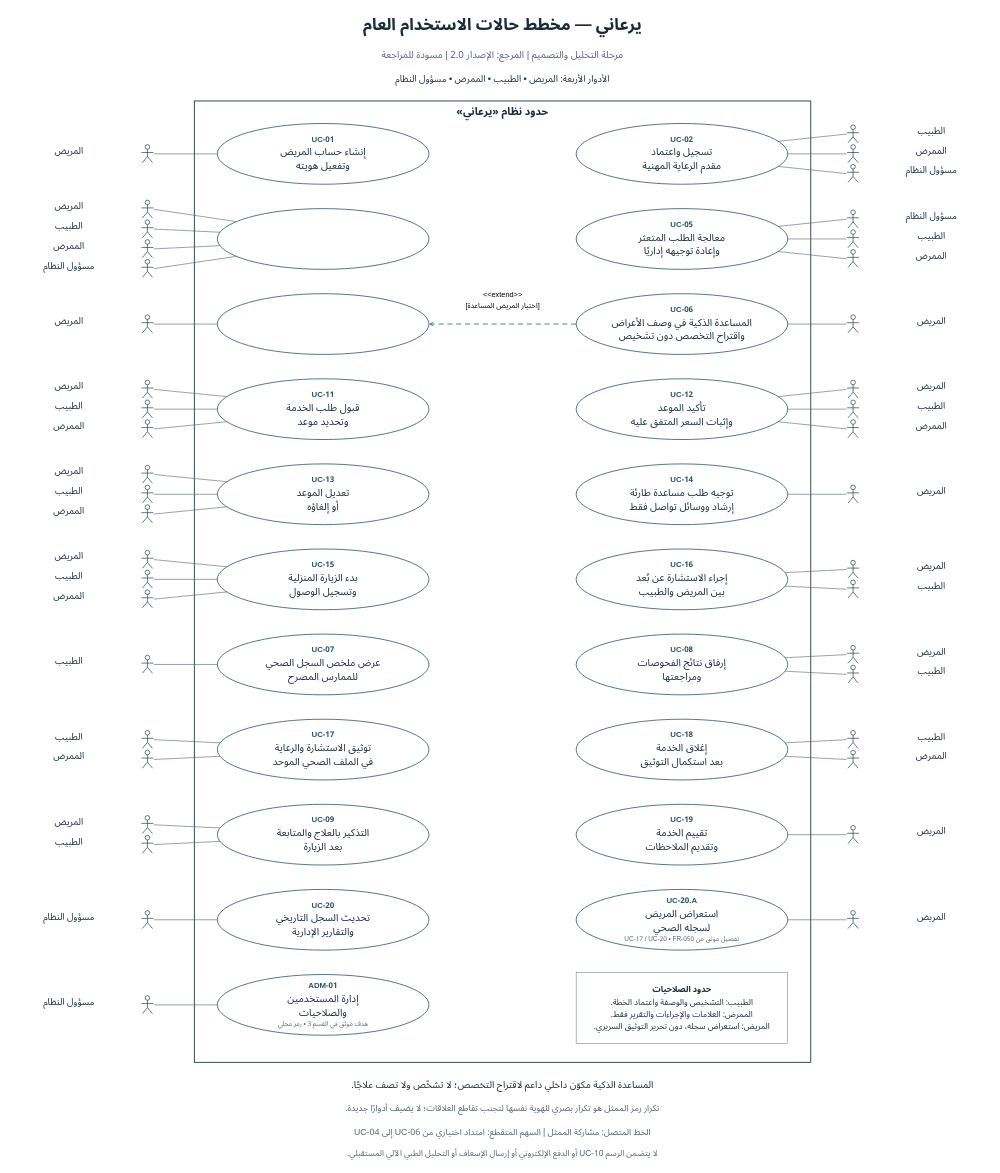
The diagram is 1000 pixels wide and 1173 high, and some of its shapes have lost their labels. The shapes that lost their labels are listed below. From the top down, each one's centre as x and y in pixels, then its label:
At (x=323, y=239): "UC-03 المصادقة وإدارة الجلسات".
At (x=323, y=324): "UC-04 إنشاء طلب رعاية صحية جديد نقطة امتداد: اقتراح التخصص".
